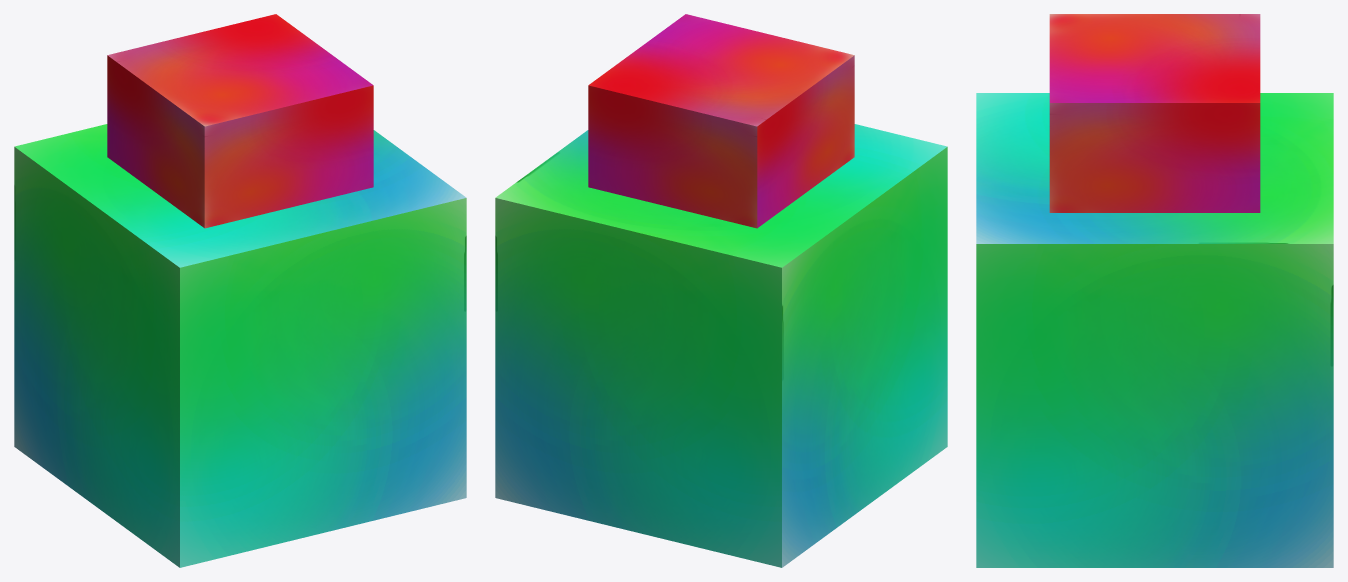
The model's file is box_with_shared_texture.glb.
3 views of the same model, side by side, from view 1: azimuth 30°, elevation 25°; view 2: azimuth 150°, elevation 25°; view 3: azimuth 270°, elevation 25° (orthographic). The views are drawn at different scales.
Visible parts, largest first — view 1: big_box, small_box; view 2: big_box, small_box; view 3: big_box, small_box.
Part boxes in pixels (box(x1,y1,x2,y2)): big_box: box(14, 124, 466, 567); small_box: box(107, 14, 373, 228); big_box: box(495, 124, 947, 567); small_box: box(588, 14, 854, 228); big_box: box(976, 93, 1333, 567); small_box: box(1049, 14, 1260, 212).
Bounding box in the file's own units: 2 × 2.68 × 2.
1 material, 1 textured.
